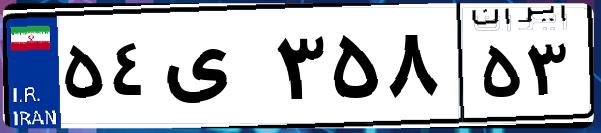3: (270, 28, 330, 110), (525, 38, 570, 115)
4: (110, 28, 158, 98)
5: (330, 28, 385, 110), (57, 26, 110, 100), (475, 38, 525, 113)
8: (385, 28, 445, 110)
ی: (158, 20, 270, 120)
